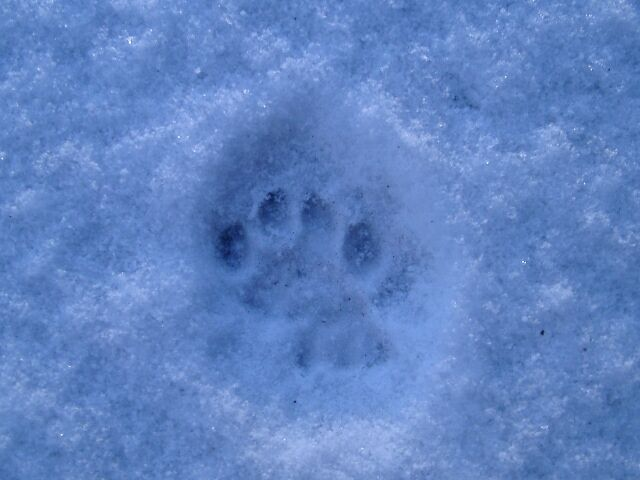cat: (273, 217, 410, 382), (212, 173, 342, 327)
